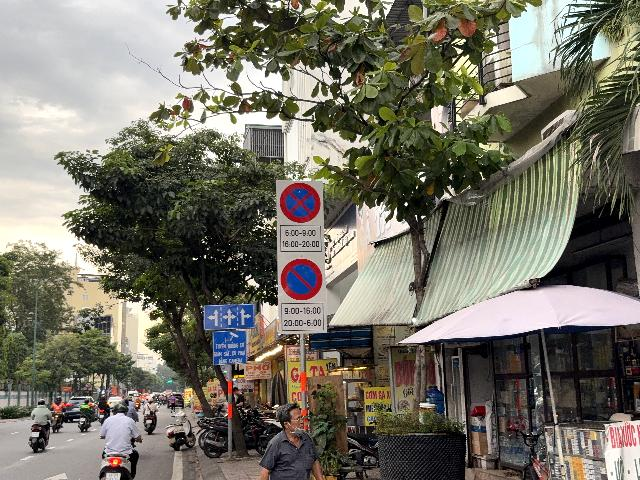cam-do-xe: (281, 258, 323, 301)
cam-dung-va-do-xe: (280, 182, 320, 222)
